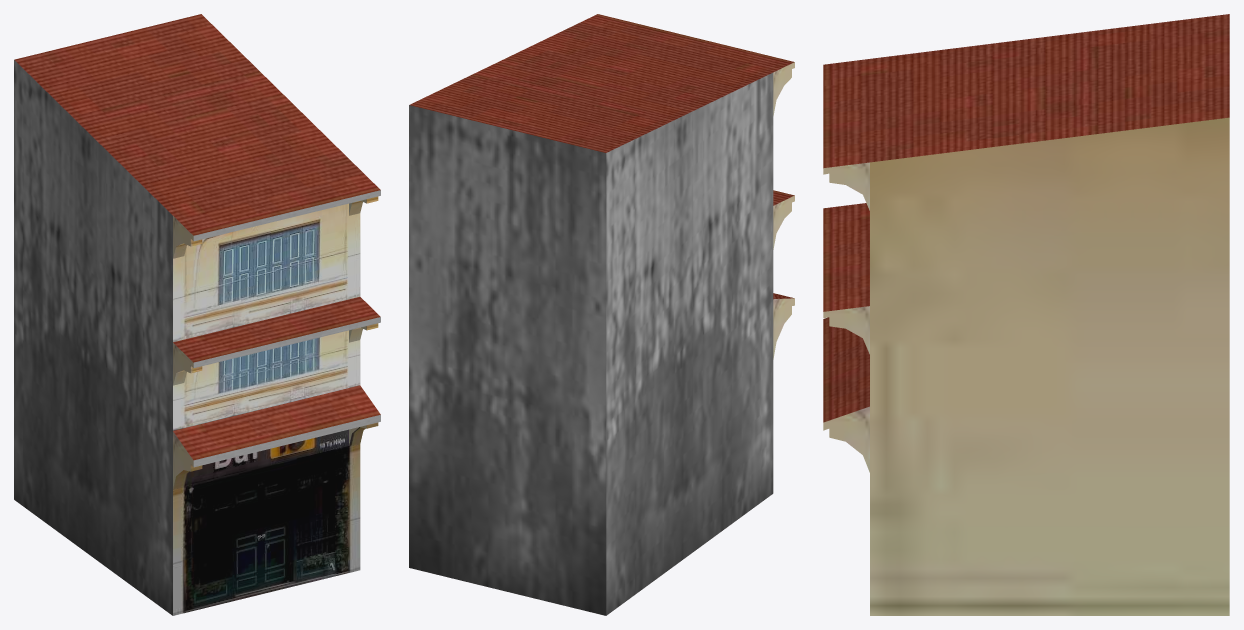
3 renders of one model, left to right at view 1: azimuth 30°, elevation 25°; view 2: azimuth 150°, elevation 25°; view 3: azimuth 270°, elevation 25°, orthographic. The views are drawn at different scales.
Visible parts, largest first — view 1: HN917___Bar_18_; view 2: HN917___Bar_18_; view 3: HN917___Bar_18_.
Part boxes in pixels (<box>): HN917___Bar_18_: <box>14,14,380,615</box>; HN917___Bar_18_: <box>409,14,794,615</box>; HN917___Bar_18_: <box>823,14,1229,615</box>.
Bounding box in the file's own units: 4.09 × 9.17 × 6.78.
Materials: 1 (1 with a texture image).
